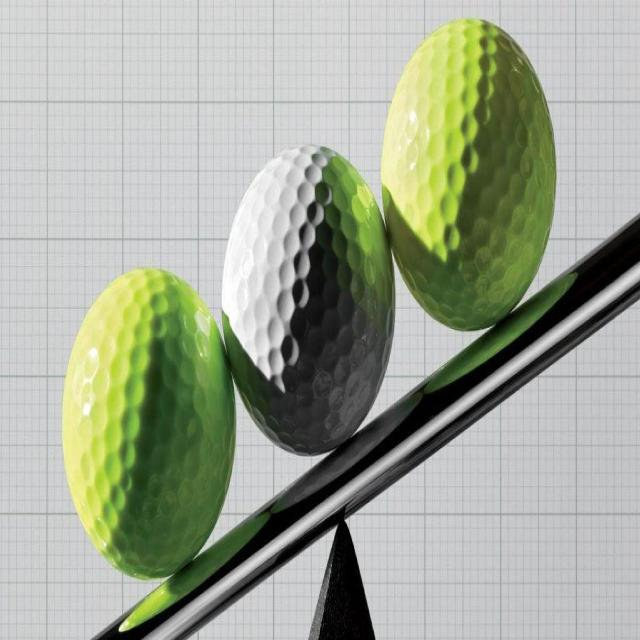ball: (380, 20, 567, 329)
